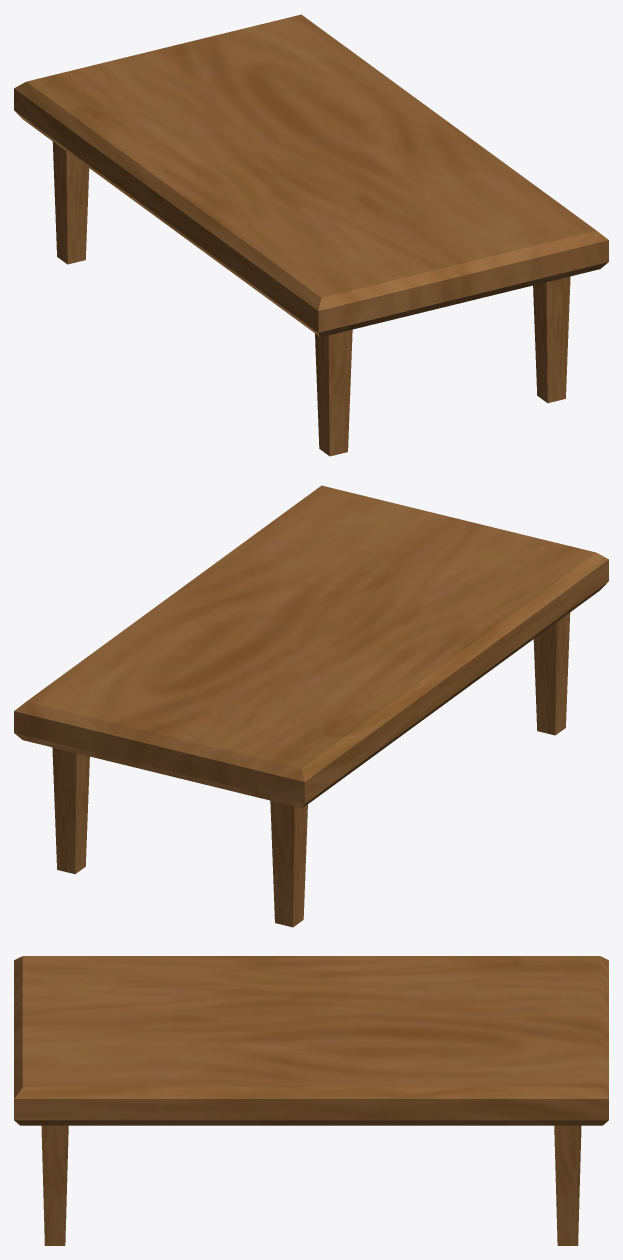
File: Medium Table.FBX
3 renders of one model, top to bottom at view 1: azimuth 30°, elevation 25°; view 2: azimuth 150°, elevation 25°; view 3: azimuth 270°, elevation 25°, orthographic. The views are drawn at different scales.
Visible parts, largest first — view 1: Table; view 2: Table; view 3: Table.
Boxes of the visible parts, x1,y1,x2,y2 form: Table: (14, 14, 608, 456); Table: (14, 485, 608, 927); Table: (14, 956, 608, 1245).
Bounding box in the file's own units: 160 × 90.11 × 289.
